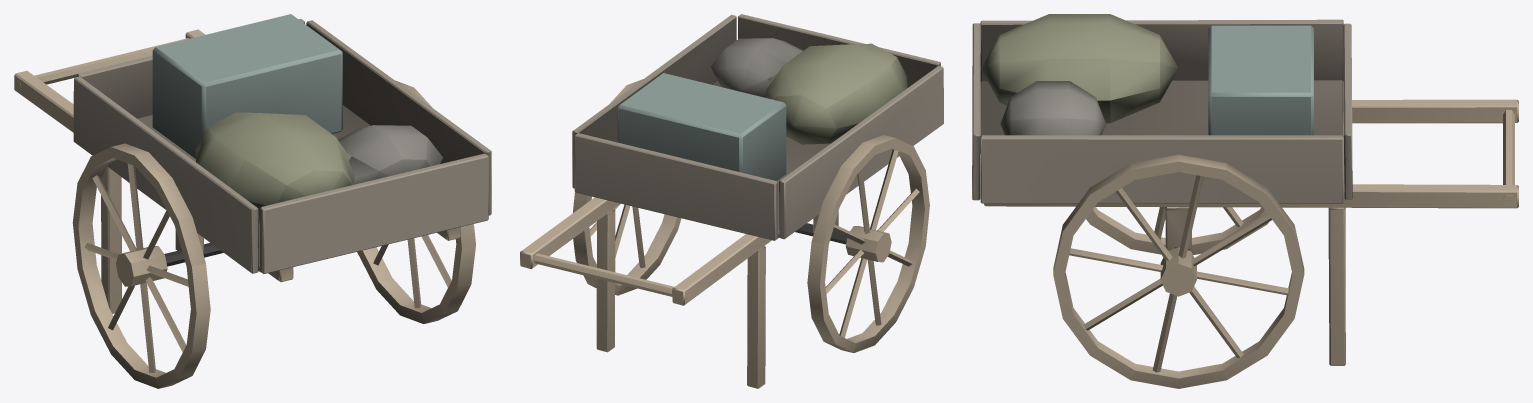
The model's file is handcart.glb.
The picture shows the model from 3 angles, left to right: view 1: azimuth 30°, elevation 25°; view 2: azimuth 150°, elevation 25°; view 3: azimuth 270°, elevation 25°; orthographic projection. The views are drawn at different scales.
Parts seen in each view (by area): view 1: static; view 2: static; view 3: static.
Boxes of the visible parts, x1,y1,x2,y2 form: static: (14,14,491,388); static: (520,14,943,388); static: (972,14,1518,388).
Size of the model in its own units: 1.06 by 0.9173 by 1.66.
